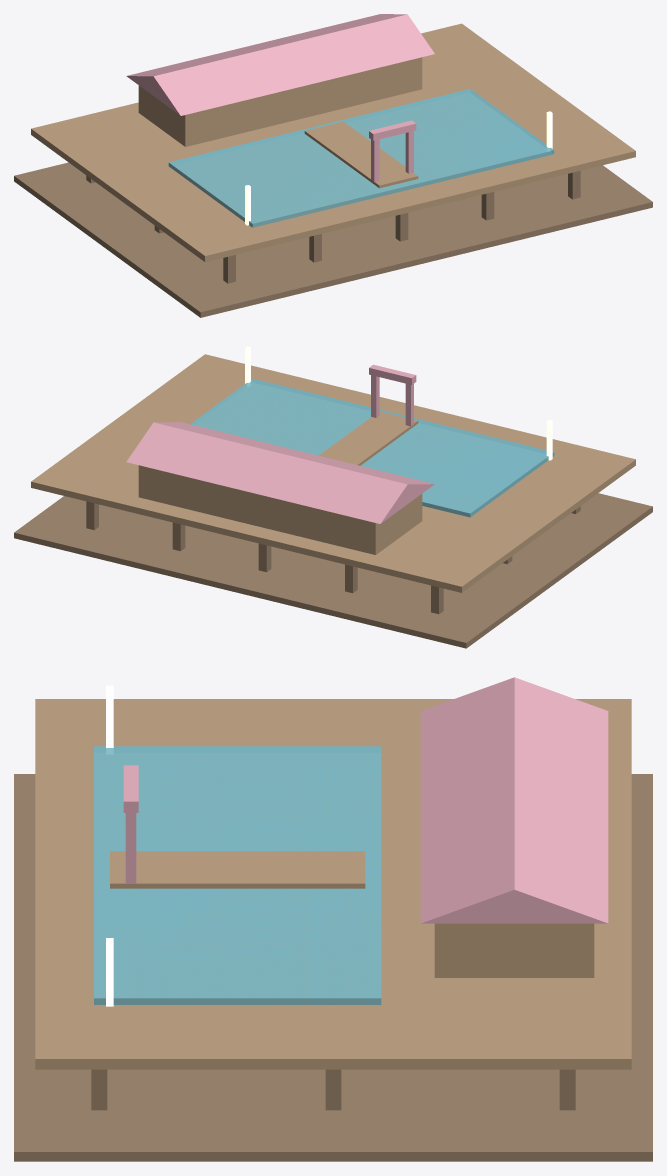
File: lm_35_ho_tren_may_ta_nung_sky_mirror.glb
3 views of the same model, one above another, from view 1: azimuth 30°, elevation 25°; view 2: azimuth 150°, elevation 25°; view 3: azimuth 270°, elevation 25° (orthographic). The views are drawn at different scales.
Parts seen in each view (by area): view 1: lm_35_ho_tren_may_ta_nung_sky_mirror; view 2: lm_35_ho_tren_may_ta_nung_sky_mirror; view 3: lm_35_ho_tren_may_ta_nung_sky_mirror.
Boxes of the visible parts, x1=… form: lm_35_ho_tren_may_ta_nung_sky_mirror: x1=14, y1=14, x2=652, y2=317; lm_35_ho_tren_may_ta_nung_sky_mirror: x1=14, y1=346, x2=652, y2=648; lm_35_ho_tren_may_ta_nung_sky_mirror: x1=14, y1=677, x2=652, y2=1161.
Bounding box in the file's own units: 42 × 9.8 × 30.
